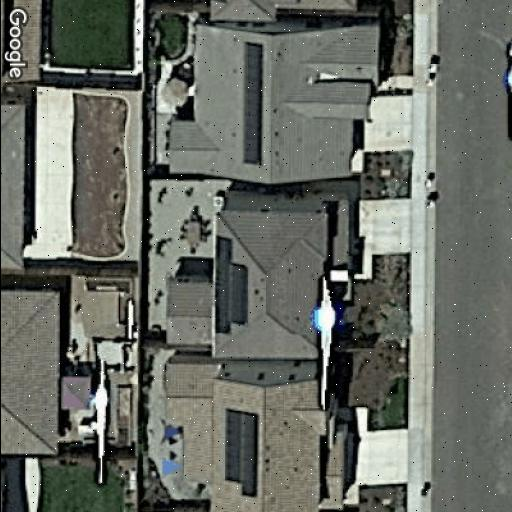solar-panel: (212, 234, 250, 336), (222, 408, 260, 500), (240, 40, 264, 166)
